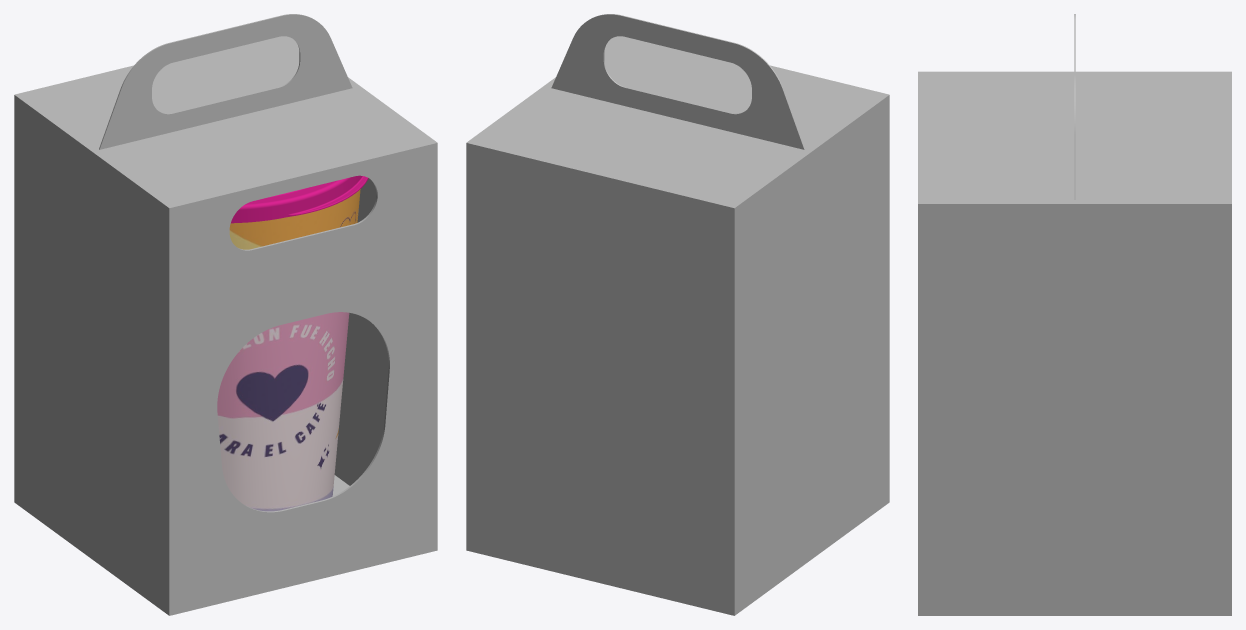
The picture shows the model from 3 angles, left to right: view 1: azimuth 30°, elevation 25°; view 2: azimuth 150°, elevation 25°; view 3: azimuth 270°, elevation 25°; orthographic projection.
Parts seen in each view (by area): view 1: object_2_n3d, object_1%2E002_n3d, object_1_n3d, tapa pico; view 2: object_2_n3d, object_1_n3d; view 3: object_2_n3d.
Part boxes in pixels (x1,y1,x2,y2): object_2_n3d: [14, 36, 437, 615]; object_1%2E002_n3d: [217, 189, 360, 511]; object_1_n3d: [99, 14, 352, 149]; tapa pico: [231, 175, 368, 223]; object_2_n3d: [466, 36, 889, 615]; object_1_n3d: [551, 14, 804, 149]; object_2_n3d: [918, 71, 1231, 615].
Size of the model in its own units: 1.27 by 2.24 by 1.27.
Materials: 4 (1 with a texture image).
